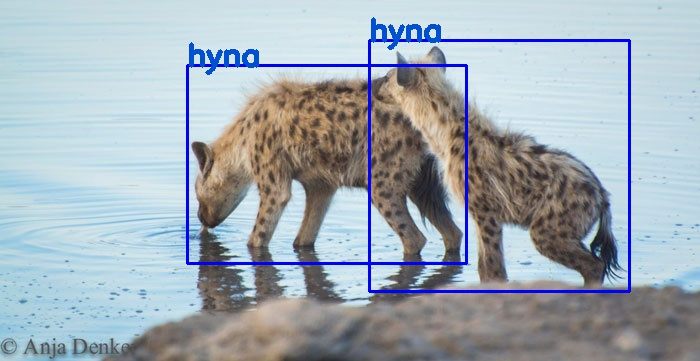hyna: (368, 40, 629, 291), (187, 65, 466, 263)
